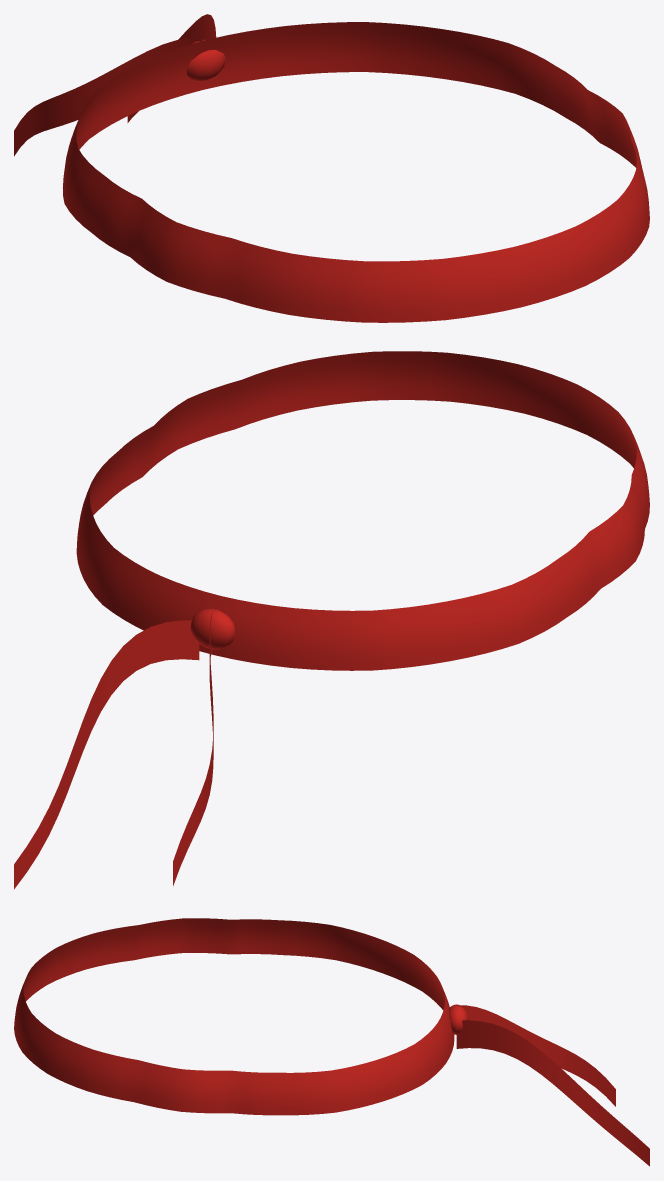
Rendered from modele.glb.
3 views of the same model, one above another, from view 1: azimuth 30°, elevation 25°; view 2: azimuth 150°, elevation 25°; view 3: azimuth 270°, elevation 25° (orthographic). The views are drawn at different scales.
Size of the model in its own units: 66.97 by 30.06 by 112.
